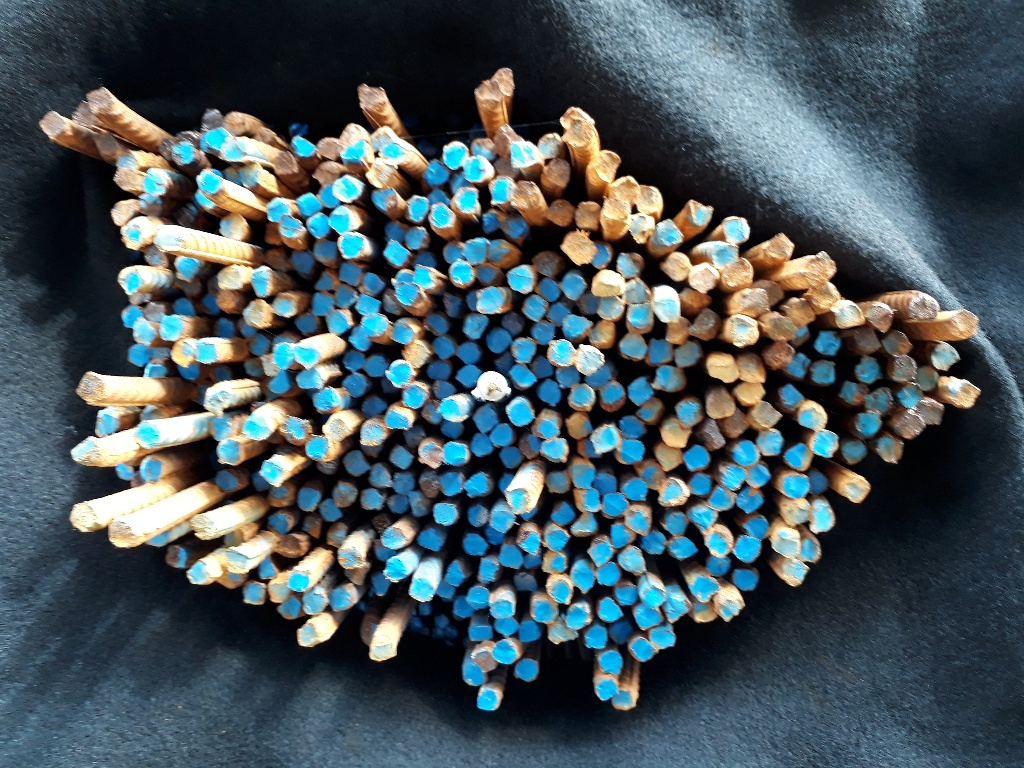dipstick: (559, 230, 598, 266), (802, 251, 837, 288), (688, 308, 721, 341), (761, 313, 798, 342), (722, 257, 754, 290), (783, 296, 816, 328), (730, 314, 759, 349), (91, 128, 122, 160), (69, 501, 100, 533), (707, 352, 740, 382), (592, 150, 623, 181), (690, 262, 720, 294), (573, 346, 605, 376), (218, 211, 250, 241), (659, 417, 692, 446), (508, 141, 542, 169), (610, 176, 640, 207), (752, 278, 783, 308), (736, 354, 767, 384), (770, 527, 800, 558), (478, 372, 509, 402), (738, 289, 770, 318), (506, 396, 535, 428), (562, 120, 595, 148), (279, 417, 312, 445), (651, 365, 685, 392), (590, 270, 625, 296), (570, 559, 596, 594), (493, 124, 523, 154), (764, 233, 795, 262), (661, 253, 692, 282), (950, 379, 981, 408), (241, 299, 272, 328), (809, 283, 841, 311), (778, 558, 810, 586), (655, 479, 687, 507), (623, 279, 655, 307), (865, 302, 895, 331), (930, 342, 960, 371), (705, 389, 735, 418), (617, 546, 646, 576), (464, 156, 495, 184), (638, 461, 669, 489), (331, 175, 362, 203), (75, 372, 103, 403), (629, 213, 656, 245), (894, 413, 926, 440), (562, 315, 594, 342), (508, 182, 541, 208), (811, 501, 836, 535), (777, 384, 806, 413), (705, 528, 734, 557), (626, 376, 655, 405), (39, 110, 67, 140), (633, 603, 663, 631), (260, 459, 290, 487), (542, 161, 573, 188), (653, 220, 684, 247), (782, 499, 813, 526), (573, 487, 604, 514), (809, 431, 841, 457), (574, 201, 603, 229), (488, 176, 516, 205), (507, 265, 536, 293), (602, 493, 631, 521), (361, 420, 390, 448), (442, 141, 469, 171), (910, 293, 940, 320), (887, 356, 917, 383), (798, 404, 828, 431), (676, 399, 703, 429), (634, 399, 664, 426), (404, 195, 431, 225), (549, 619, 579, 646), (387, 362, 417, 389), (654, 291, 680, 322), (663, 314, 689, 345), (625, 304, 656, 330), (69, 438, 100, 464), (763, 342, 795, 367), (249, 265, 274, 297), (846, 474, 870, 507), (721, 215, 749, 243), (472, 406, 500, 434), (545, 200, 574, 227), (883, 332, 912, 359), (720, 411, 749, 438), (691, 576, 720, 603), (558, 273, 587, 300), (591, 427, 618, 456), (476, 287, 505, 314), (636, 185, 662, 215), (784, 444, 814, 470), (487, 239, 513, 269), (730, 440, 761, 465), (595, 296, 626, 321), (152, 226, 183, 251), (701, 419, 725, 451), (335, 234, 367, 258), (916, 399, 944, 426), (866, 388, 894, 415), (854, 412, 882, 439), (839, 379, 866, 407), (734, 536, 761, 564), (620, 333, 648, 360), (589, 322, 616, 350), (662, 597, 690, 624), (625, 508, 652, 536), (453, 189, 481, 216), (107, 521, 135, 548), (120, 222, 147, 250), (265, 196, 292, 224), (755, 431, 784, 457), (689, 505, 718, 531), (485, 329, 514, 355), (504, 487, 533, 513), (688, 198, 713, 228), (539, 439, 569, 464), (643, 341, 674, 365), (313, 162, 344, 186), (952, 310, 979, 337), (599, 384, 626, 411), (422, 159, 449, 186), (735, 489, 763, 515), (656, 443, 682, 471), (523, 294, 549, 322), (569, 385, 597, 411), (588, 539, 614, 567), (449, 260, 475, 288), (440, 396, 468, 422), (329, 207, 355, 235), (242, 415, 270, 441), (119, 268, 145, 296), (278, 213, 306, 239), (358, 85, 387, 110), (113, 167, 142, 192), (853, 330, 882, 355), (815, 329, 840, 358), (743, 463, 772, 488), (707, 486, 736, 511), (584, 365, 613, 390), (532, 253, 561, 278), (366, 161, 395, 186), (203, 386, 232, 411), (752, 404, 782, 428), (629, 637, 659, 661), (615, 440, 645, 464), (383, 408, 413, 432), (279, 533, 309, 557), (173, 256, 204, 279), (87, 88, 113, 115), (218, 136, 245, 162), (470, 137, 497, 163), (683, 445, 710, 471), (461, 239, 488, 265), (550, 340, 576, 367), (417, 443, 444, 469), (463, 471, 490, 497), (134, 422, 161, 448), (158, 315, 185, 341), (854, 358, 882, 383), (783, 474, 811, 499), (587, 242, 612, 270), (648, 625, 676, 650), (571, 512, 599, 537), (189, 516, 217, 541), (559, 107, 592, 128), (536, 133, 562, 159), (674, 341, 700, 367), (511, 336, 537, 362), (443, 442, 469, 468), (498, 544, 524, 570), (294, 343, 320, 369), (378, 140, 405, 165), (843, 439, 868, 466), (743, 515, 770, 540), (720, 465, 747, 490), (533, 279, 560, 304), (502, 218, 529, 243), (428, 204, 455, 229), (571, 462, 596, 489), (471, 649, 498, 674), (538, 380, 563, 407), (393, 281, 420, 306), (409, 578, 436, 603), (331, 483, 358, 508), (195, 169, 222, 194), (711, 244, 739, 268), (836, 302, 864, 326), (879, 437, 903, 465), (734, 383, 766, 404), (509, 364, 537, 388), (270, 294, 298, 318), (185, 560, 213, 584), (602, 198, 631, 221), (690, 600, 719, 623), (357, 274, 386, 297), (679, 289, 710, 310), (532, 419, 563, 440), (784, 354, 810, 379), (595, 561, 621, 586), (383, 241, 409, 266), (439, 472, 464, 498), (403, 343, 429, 368), (343, 451, 369, 476), (224, 548, 250, 573), (112, 200, 137, 226), (898, 385, 925, 409), (543, 552, 570, 576), (432, 503, 459, 527), (347, 326, 374, 350), (344, 562, 371, 586), (301, 592, 329, 615), (171, 340, 194, 368), (567, 415, 592, 440), (583, 624, 608, 649), (598, 651, 623, 676), (327, 587, 352, 612), (243, 582, 268, 607), (223, 111, 249, 135), (291, 133, 317, 157), (315, 135, 341, 159), (663, 512, 689, 536), (492, 640, 518, 664), (469, 433, 495, 457), (463, 533, 489, 557), (417, 527, 443, 551), (313, 388, 339, 412), (308, 213, 332, 239), (94, 413, 120, 437), (239, 163, 263, 189), (640, 586, 667, 609), (544, 304, 571, 327), (361, 313, 388, 336), (321, 419, 348, 442), (208, 417, 235, 440), (731, 569, 759, 591), (519, 432, 541, 460), (342, 375, 370, 397), (493, 69, 517, 94), (811, 361, 836, 385), (490, 424, 514, 449), (383, 559, 408, 583), (403, 384, 428, 408), (368, 464, 393, 488), (338, 544, 363, 568), (295, 623, 320, 647), (276, 596, 301, 620), (168, 141, 194, 164), (530, 322, 556, 345), (514, 659, 540, 682), (542, 527, 568, 550), (272, 345, 295, 371), (266, 372, 292, 395), (619, 416, 646, 438), (455, 341, 482, 363), (296, 367, 323, 389), (408, 489, 429, 517), (295, 193, 323, 214), (216, 268, 244, 289), (669, 539, 698, 559), (914, 367, 938, 391), (623, 478, 647, 502), (594, 472, 618, 496), (467, 585, 491, 609), (425, 313, 449, 337), (389, 446, 413, 470), (257, 559, 281, 583), (145, 245, 169, 269), (716, 595, 739, 620), (643, 529, 666, 554), (609, 621, 634, 644), (598, 598, 623, 621), (431, 337, 456, 360), (391, 473, 416, 496), (381, 291, 404, 316), (325, 310, 350, 333), (310, 292, 335, 315), (297, 487, 320, 512), (217, 441, 242, 464), (481, 211, 503, 237), (577, 437, 603, 459), (463, 316, 489, 338), (444, 561, 466, 587), (70, 103, 97, 124), (476, 263, 503, 284), (360, 621, 381, 648), (369, 642, 397, 662), (617, 253, 641, 276), (476, 689, 500, 712), (550, 580, 574, 603), (442, 240, 465, 264), (501, 312, 524, 336), (518, 531, 541, 555), (319, 497, 342, 521), (304, 435, 328, 458), (532, 600, 557, 622), (530, 356, 555, 378), (380, 527, 405, 549), (360, 488, 385, 510), (269, 512, 294, 534), (138, 195, 163, 217), (477, 559, 498, 585), (457, 365, 483, 386), (361, 356, 387, 377), (360, 396, 387, 416), (462, 664, 485, 687), (405, 227, 428, 250), (314, 240, 337, 263), (166, 546, 189, 569), (551, 502, 573, 526), (454, 596, 476, 620), (139, 459, 163, 481), (133, 323, 157, 345), (477, 81, 502, 102), (340, 140, 365, 161), (687, 475, 712, 496), (491, 511, 516, 532), (489, 598, 514, 619), (338, 264, 363, 285), (268, 487, 293, 508), (208, 364, 233, 385), (544, 473, 570, 493), (355, 295, 381, 315), (799, 539, 821, 562), (500, 447, 523, 469), (467, 505, 490, 527), (515, 571, 538, 593), (372, 573, 394, 596), (615, 584, 639, 605), (595, 680, 619, 701), (390, 323, 414, 344), (433, 379, 457, 400), (319, 185, 340, 209), (372, 125, 397, 145), (495, 158, 520, 178), (449, 172, 474, 192), (372, 190, 397, 210), (427, 361, 452, 381), (247, 335, 272, 355), (340, 123, 367, 141), (494, 617, 521, 635), (202, 129, 224, 151), (326, 526, 348, 548), (707, 555, 730, 576), (557, 366, 580, 387), (520, 620, 541, 643), (412, 265, 433, 288), (287, 571, 310, 592), (196, 340, 217, 363), (128, 345, 151, 366), (610, 691, 634, 711), (214, 290, 238, 310), (141, 175, 167, 193), (790, 324, 811, 346), (343, 351, 365, 372), (268, 583, 290, 604), (334, 285, 357, 305), (439, 421, 466, 438), (421, 399, 440, 423), (193, 189, 217, 208), (244, 359, 265, 380), (567, 607, 587, 629), (419, 475, 439, 497), (443, 293, 462, 316), (404, 428, 427, 447), (292, 253, 315, 272), (115, 151, 139, 169), (314, 273, 339, 290), (123, 308, 144, 328), (810, 473, 829, 495), (216, 471, 238, 490), (467, 624, 493, 640), (144, 303, 167, 321), (201, 295, 221, 315), (435, 579, 454, 600), (296, 314, 317, 333), (303, 519, 322, 540), (261, 355, 280, 376), (214, 319, 235, 338), (173, 298, 195, 316), (179, 365, 202, 382), (427, 190, 451, 206), (385, 222, 405, 241), (223, 530, 245, 547), (496, 353, 515, 372), (116, 462, 135, 480), (387, 496, 408, 512), (180, 280, 202, 295), (143, 365, 168, 378), (499, 474, 516, 493), (239, 320, 258, 337), (393, 272, 417, 285), (582, 294, 599, 312), (487, 526, 504, 544), (150, 347, 169, 363), (375, 547, 396, 561), (148, 531, 169, 545), (222, 167, 240, 182), (523, 554, 541, 568)
